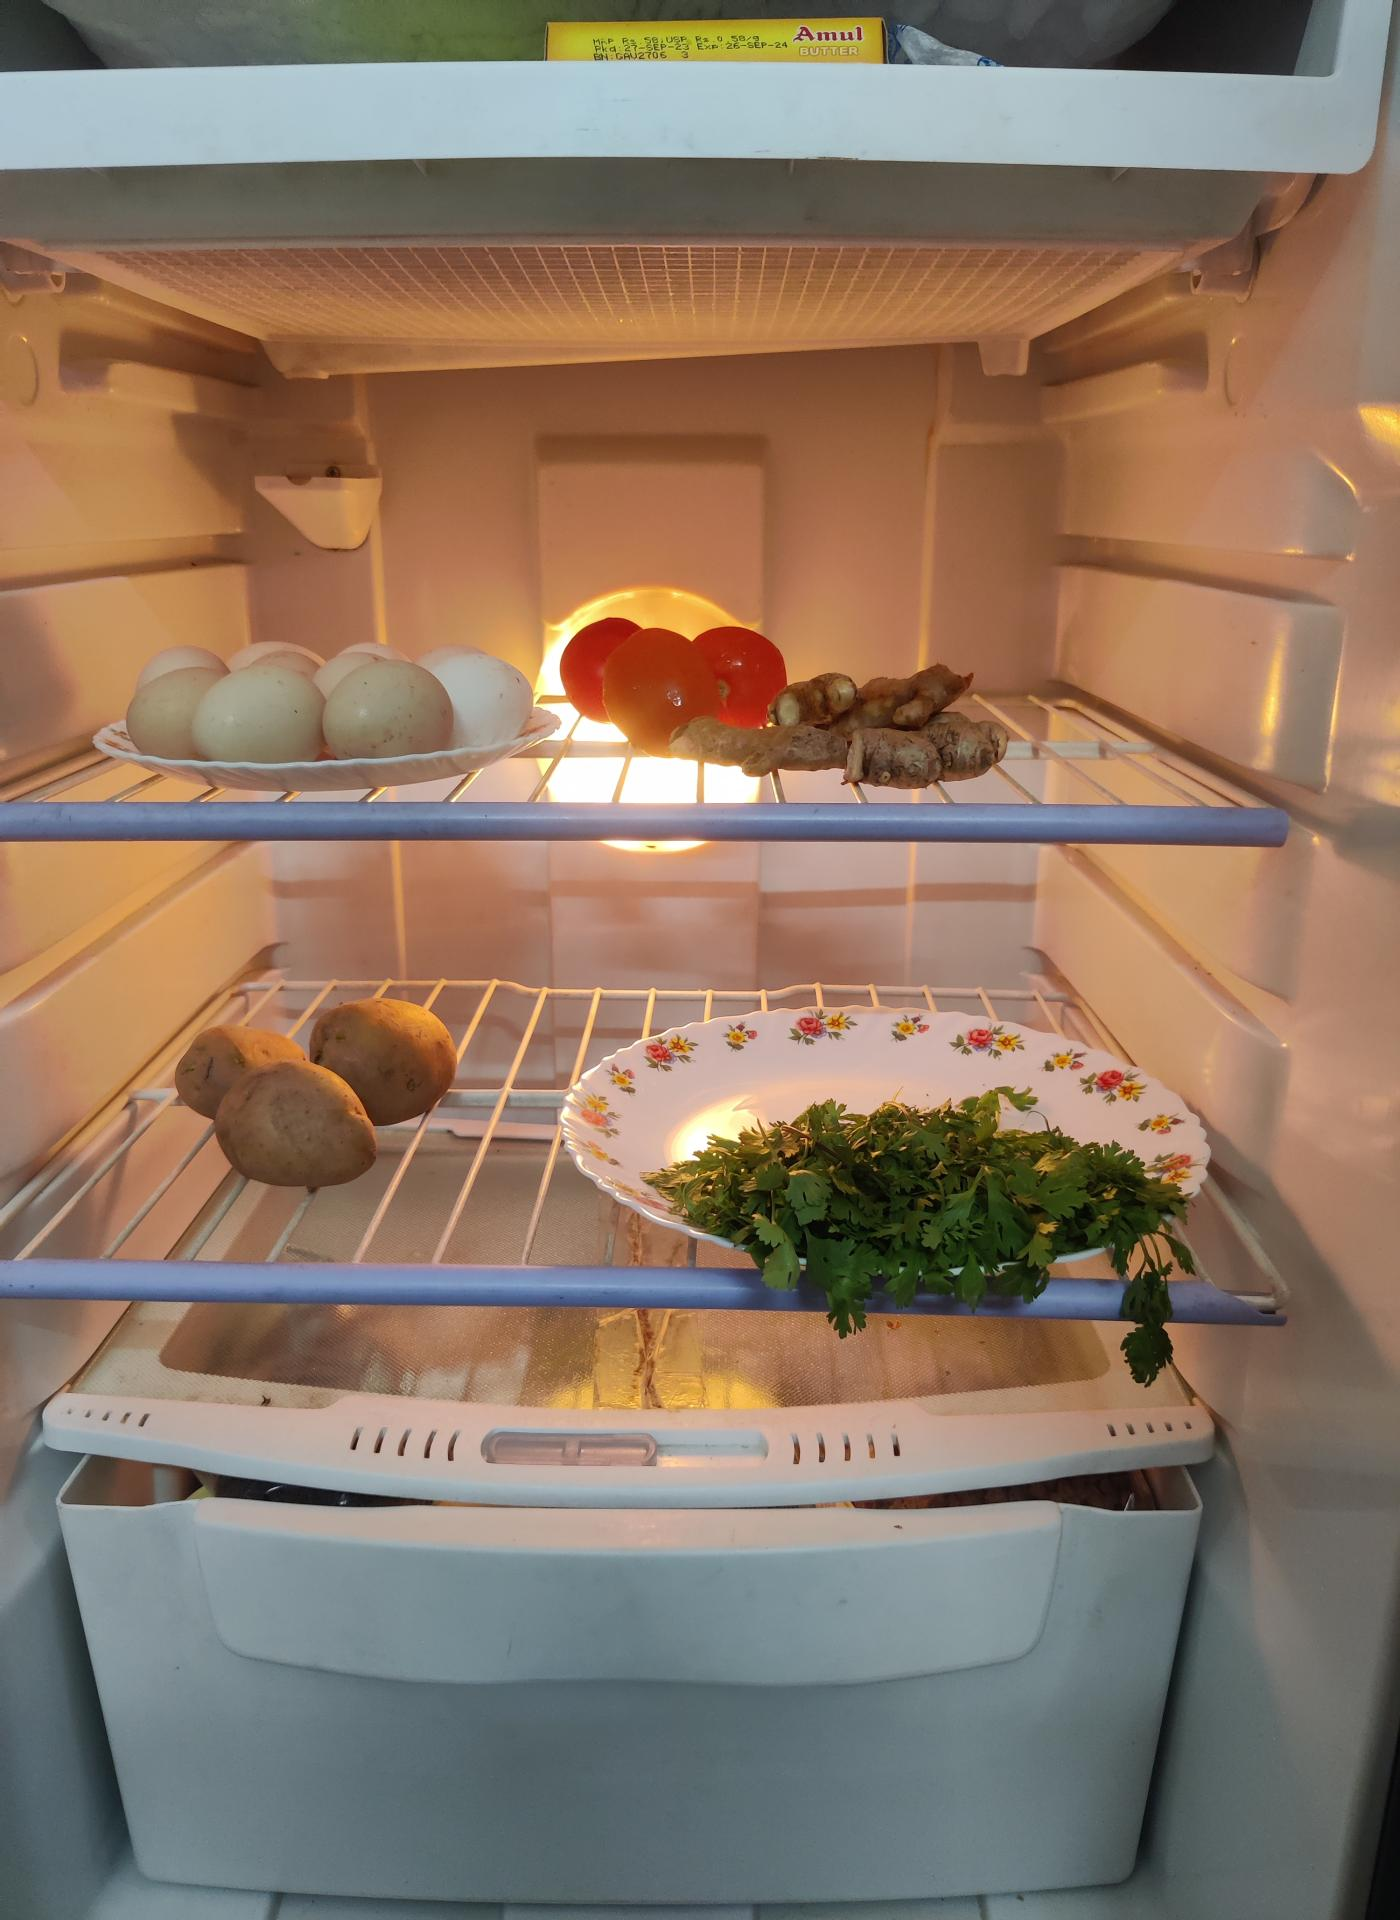coriander: (660, 1100, 1188, 1312)
egg: (125, 641, 537, 775)
ginger: (756, 662, 991, 783)
potato: (177, 987, 455, 1179)
tomato: (555, 613, 787, 738)
